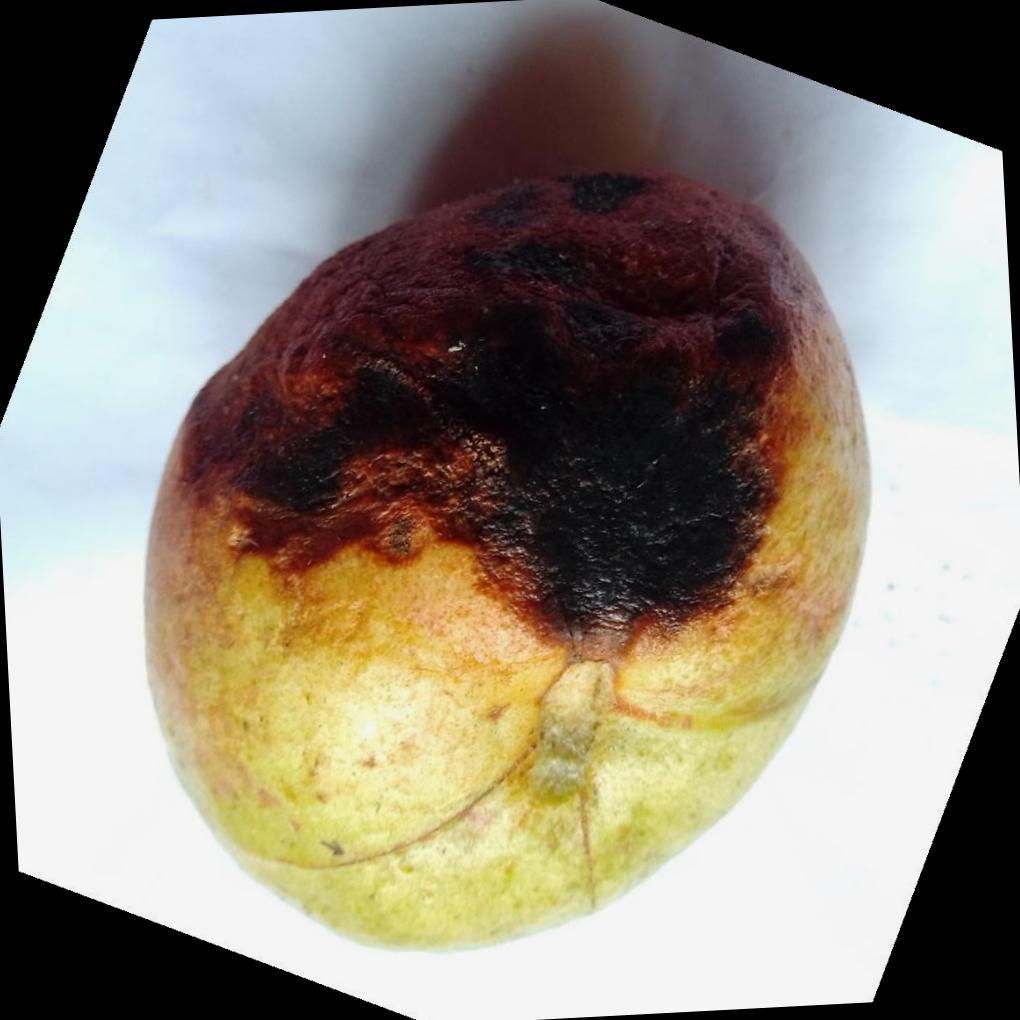FreshOrange: (143, 167, 877, 952)
